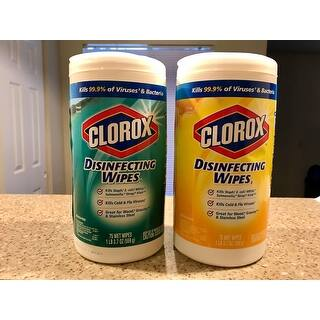Wipes: (169, 47, 280, 271), (65, 47, 169, 267)
